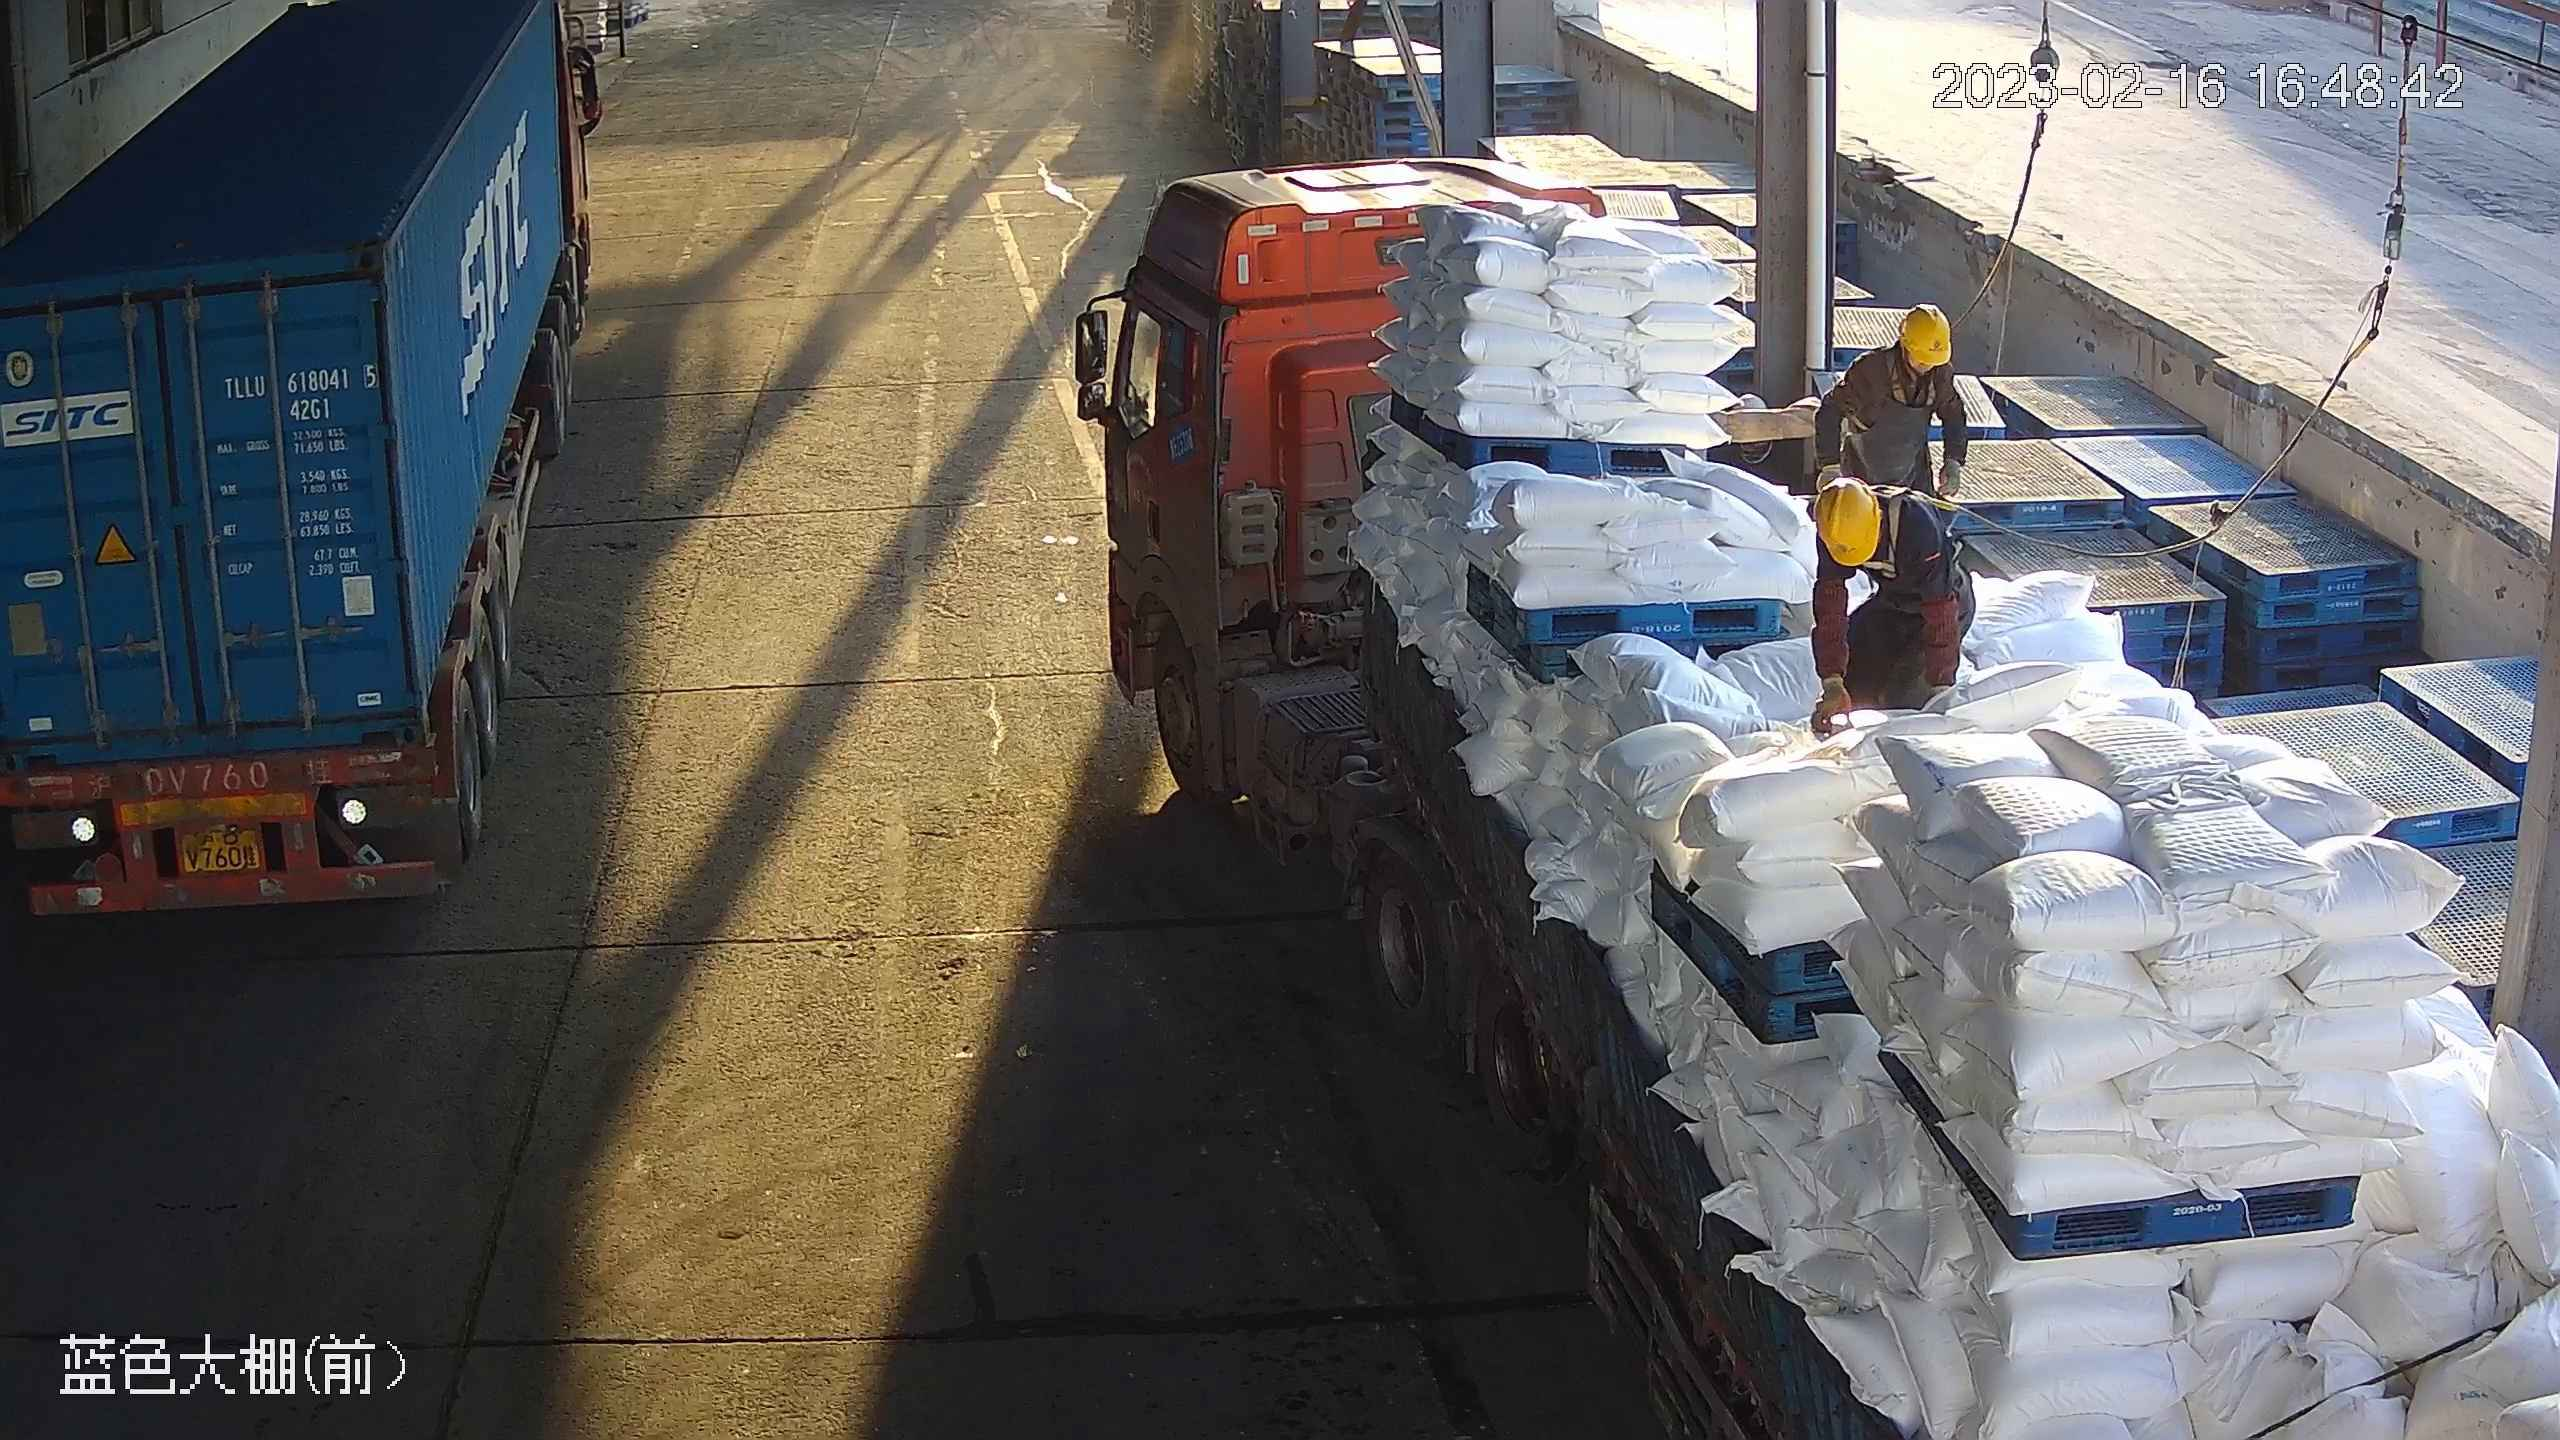belt: (1858, 485, 1957, 579), (1883, 349, 1936, 408)
head: (1812, 479, 1948, 584), (1847, 305, 1968, 402)
helmet: (1812, 478, 1881, 566), (1898, 304, 1953, 366)
people: (1809, 477, 1978, 734), (1813, 303, 1968, 497)
truck: (1070, 149, 2560, 1440), (1, 1, 605, 919)
